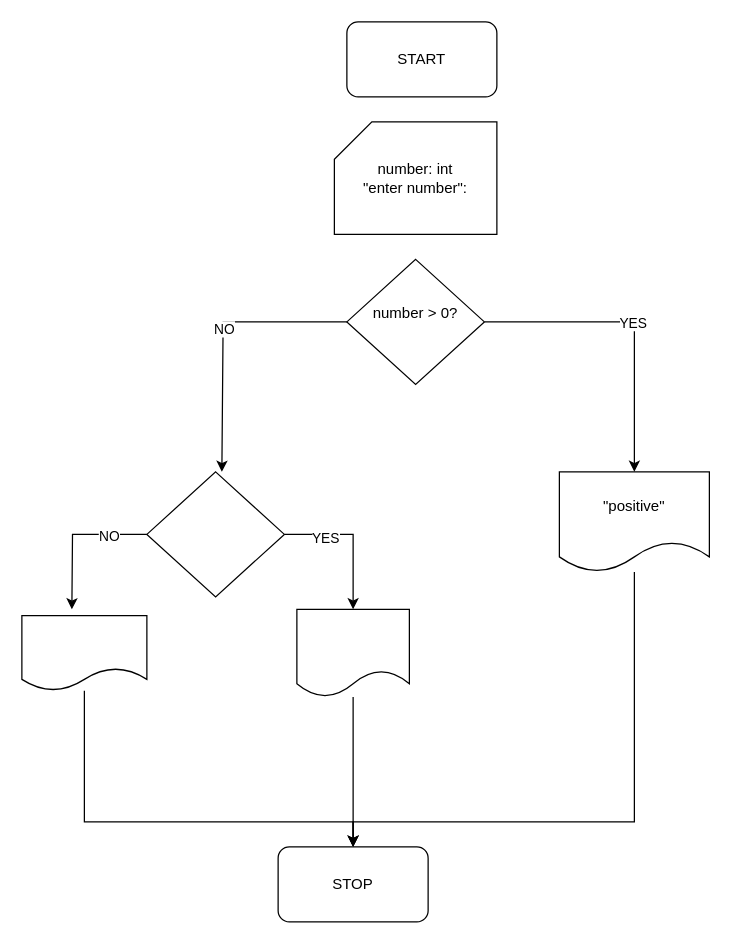
Some shapes in this 731 by 944 pixel diagram are drawn without their labels. Each missing label, with the box of its shape:
"negative": (21, 614, 147, 691)
"zero": (296, 608, 409, 697)
number == 0 ?: (146, 471, 284, 597)
